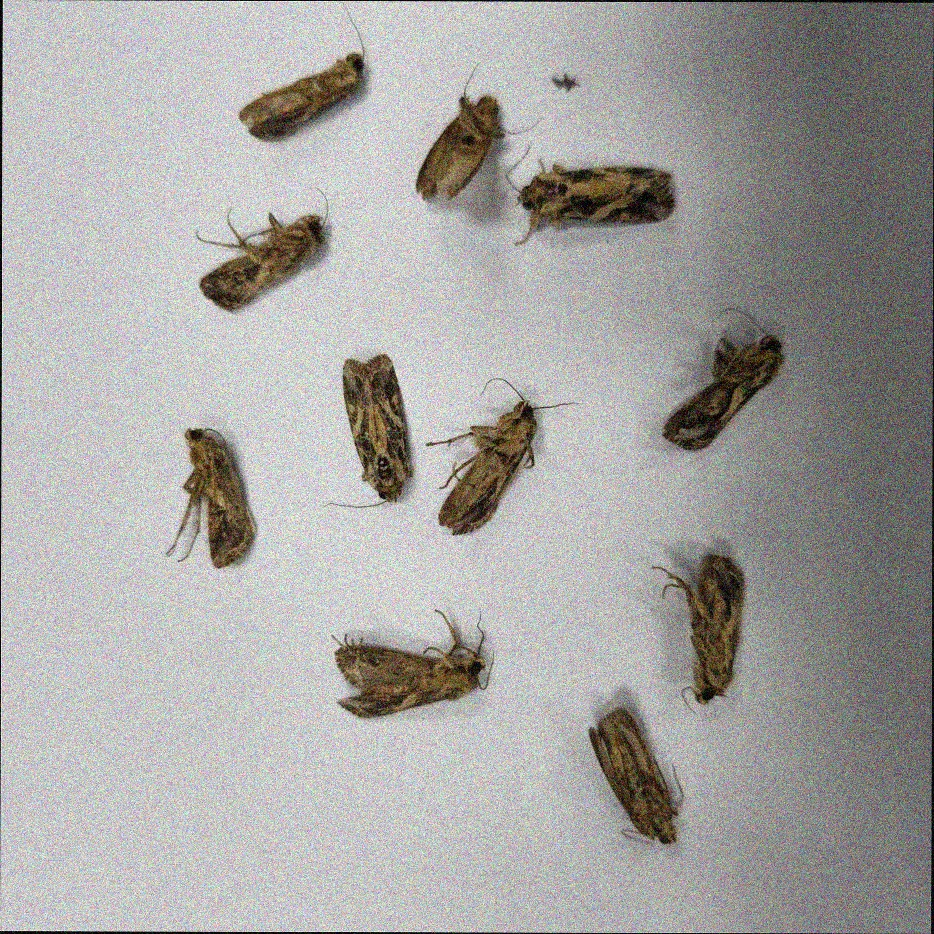Spodoptera litura: (426, 378, 579, 534), (330, 607, 496, 719), (238, 1, 368, 142), (415, 61, 542, 202), (662, 307, 785, 452), (505, 144, 675, 247), (196, 185, 333, 312), (652, 553, 746, 714), (322, 353, 414, 507), (588, 706, 686, 846), (164, 426, 258, 570)
